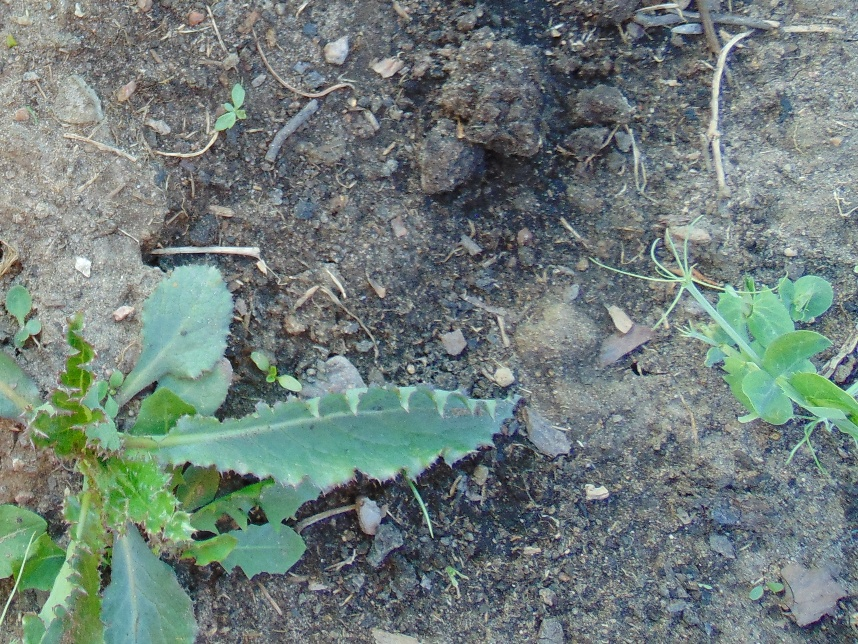crop: (650, 242, 858, 463)
weed: (1, 260, 524, 644), (1, 286, 43, 349)
